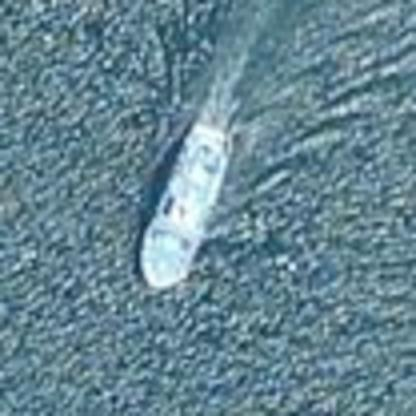ship: (120, 108, 240, 300)
